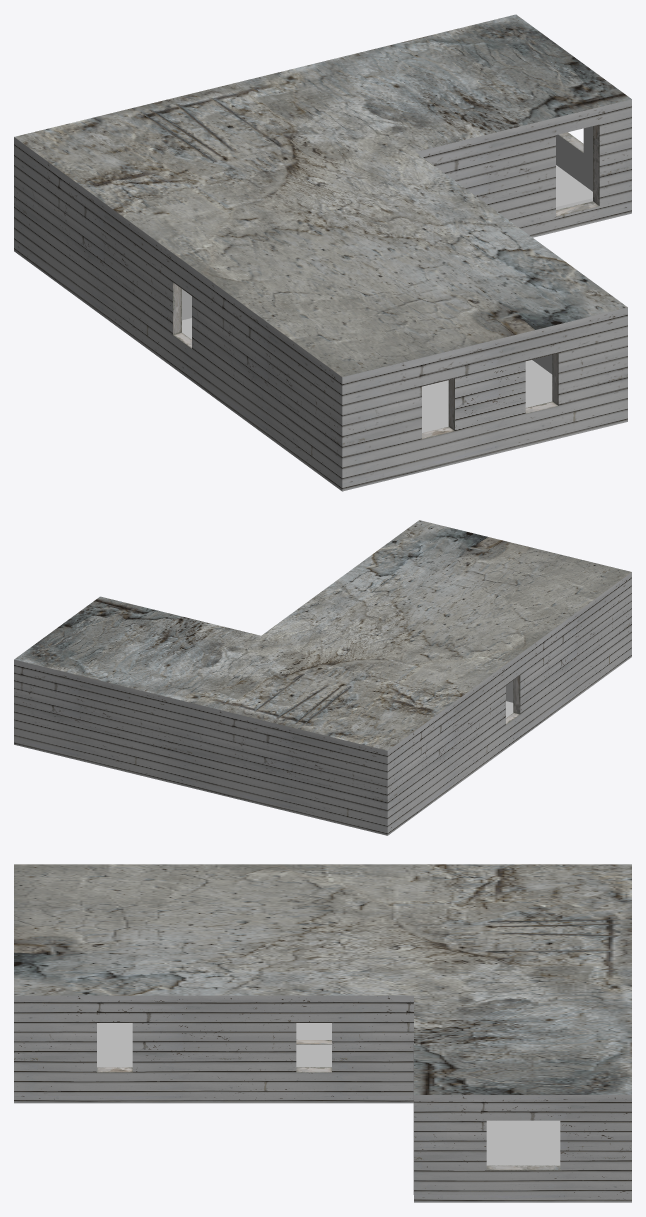
Rendered from Corps_Form_02_5.FBX.
3 views of the same model, one above another, from view 1: azimuth 30°, elevation 25°; view 2: azimuth 150°, elevation 25°; view 3: azimuth 270°, elevation 25° (orthographic). The views are drawn at different scales.
Parts seen in each view (by area): view 1: Corps_02_5; view 2: Corps_02_5; view 3: Corps_02_5.
Part boxes in pixels (box(x1,y1,x2,y2)): Corps_02_5: box(14, 14, 631, 491); Corps_02_5: box(14, 520, 631, 835); Corps_02_5: box(14, 864, 631, 1202).
Size of the model in its own units: 1425 by 1614 by 310.
